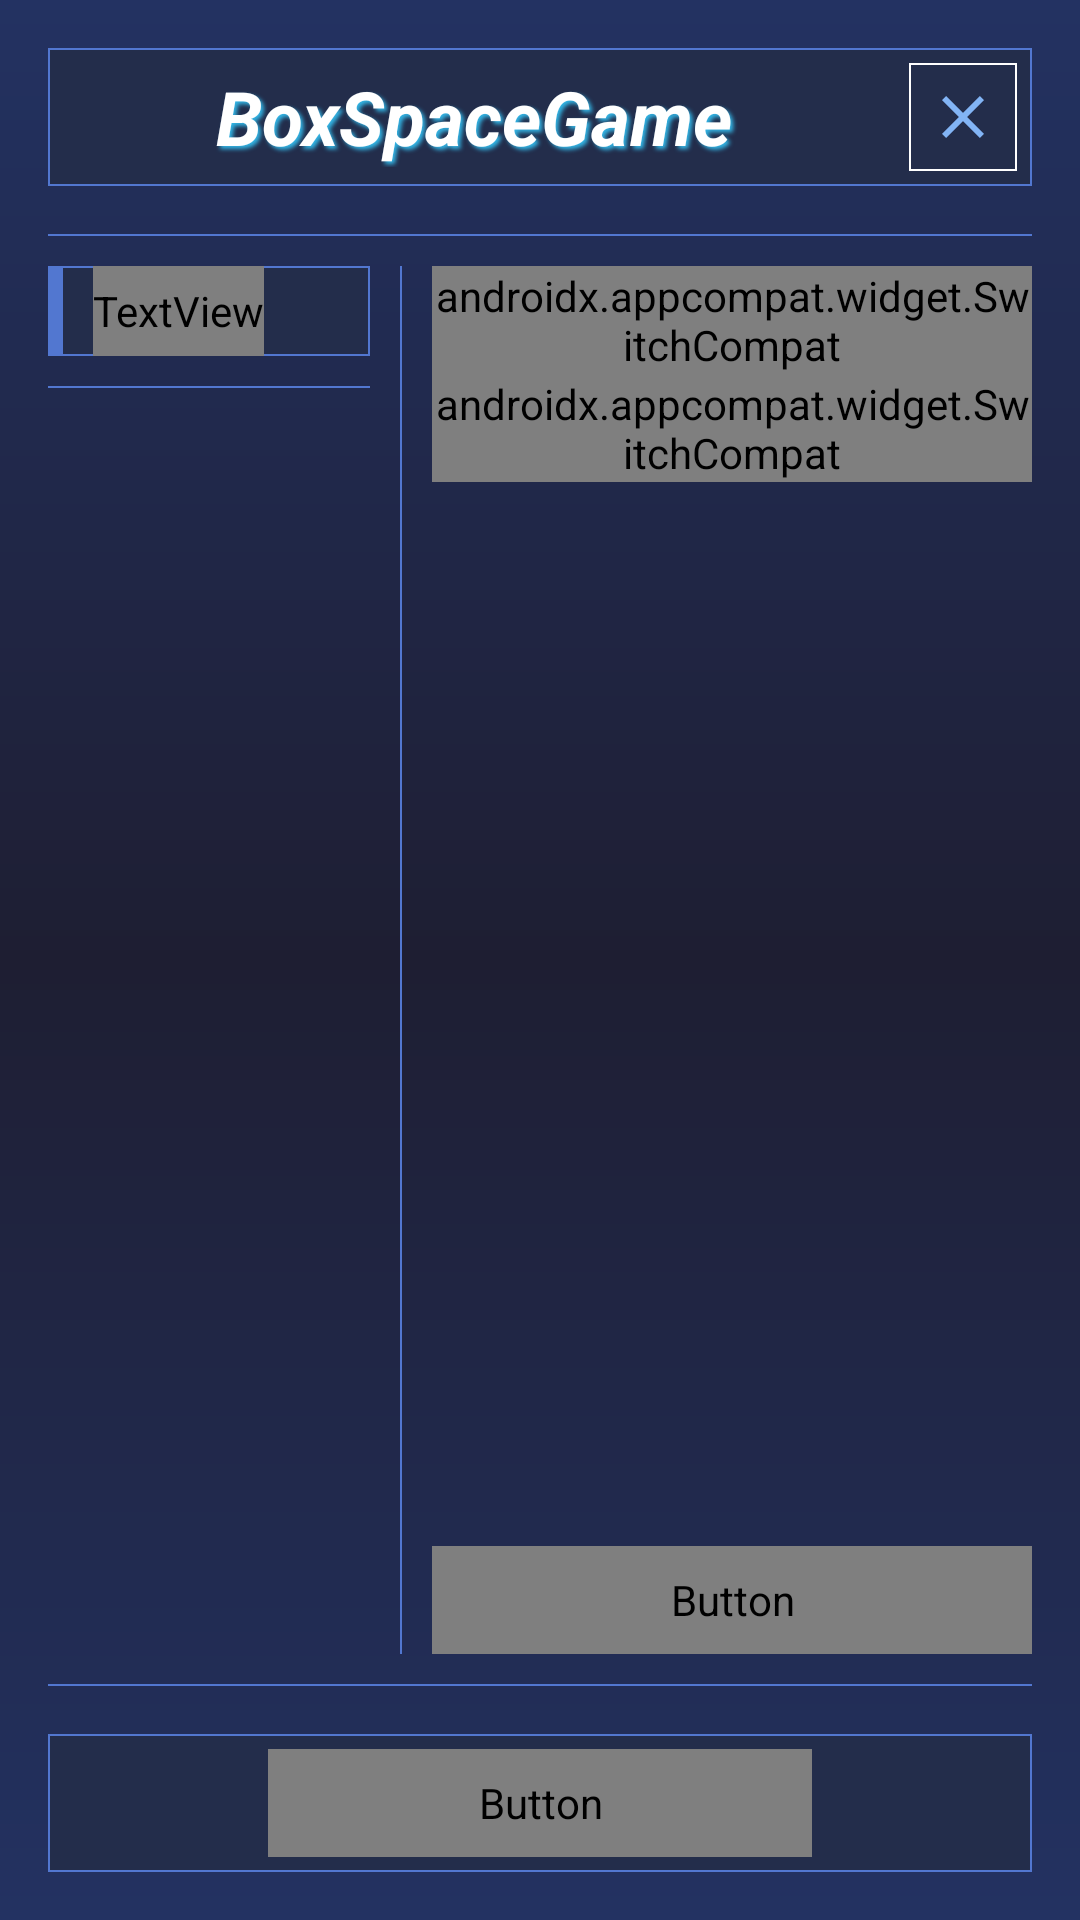

Icons on this 1080*1920 Android screen, each with its box as (x1, y1, x2, y2):
clear: (909, 63, 1017, 171)
